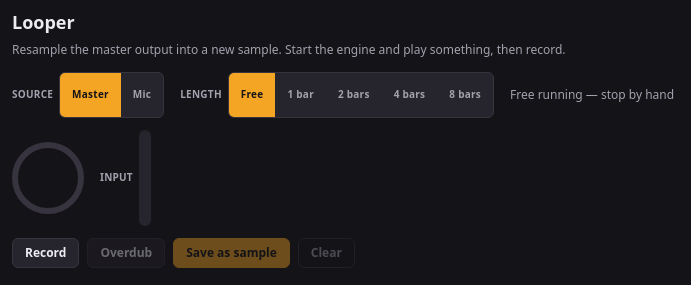
Test: LooperPanel record source (spec §8.5.8, §2.1) › offers the mic source and points the Looper at it when chosen
Click the radio button labelled "Mic" at {"x": 142, "y": 94}, box [121,72,163,116]
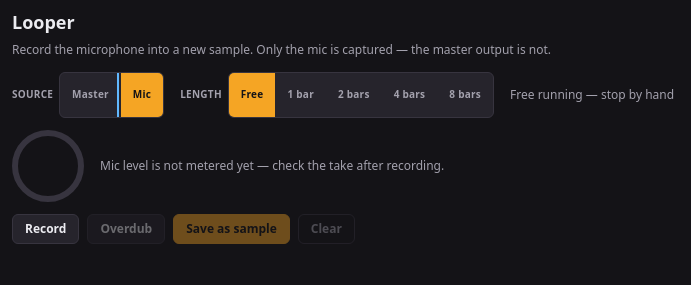
Result: the text with test id "looper-source-help" shows "Record the microphone" at [12,41,551,58]
